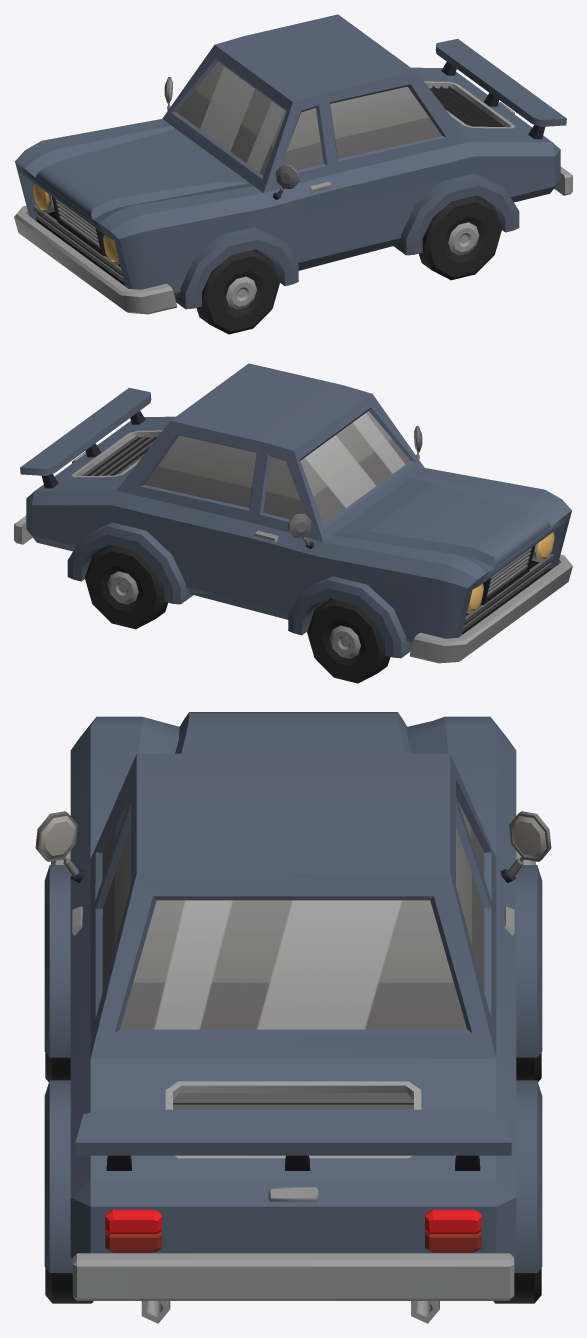
File: Car_9_X.gltf
3 views of the same model, one above another, from view 1: azimuth 30°, elevation 25°; view 2: azimuth 150°, elevation 25°; view 3: azimuth 270°, elevation 25° (orthographic). The views are drawn at different scales.
Parts seen in each view (by area): view 1: Car_9_X, RL, FL; view 2: Car_9_X, RR, FR; view 3: Car_9_X, RL, RR.
Part boxes in pixels (x1,y1,x2,y2): Car_9_X: (14,14,572,314); RL: (419,195,501,280); FL: (196,249,279,334); Car_9_X: (14,363,572,663); RR: (85,544,167,629); FR: (307,598,390,683); Car_9_X: (35,712,551,1323); RL: (45,1268,93,1303); RR: (493,1268,541,1303).
Bounding box in the file's own units: 3.1 × 1.28 × 1.51.
Materials: 4 (4 with a texture image).
